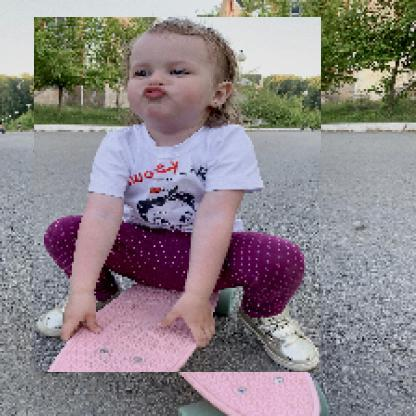child: (36, 18, 324, 374)
